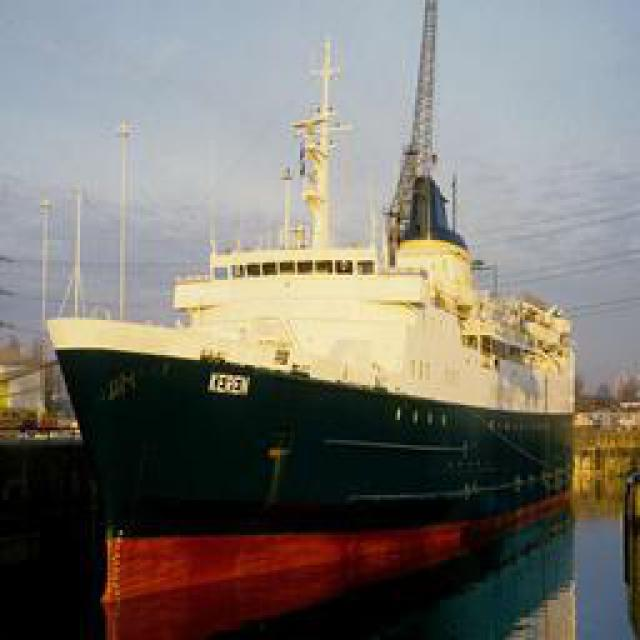Ship: (54, 1, 580, 624)
